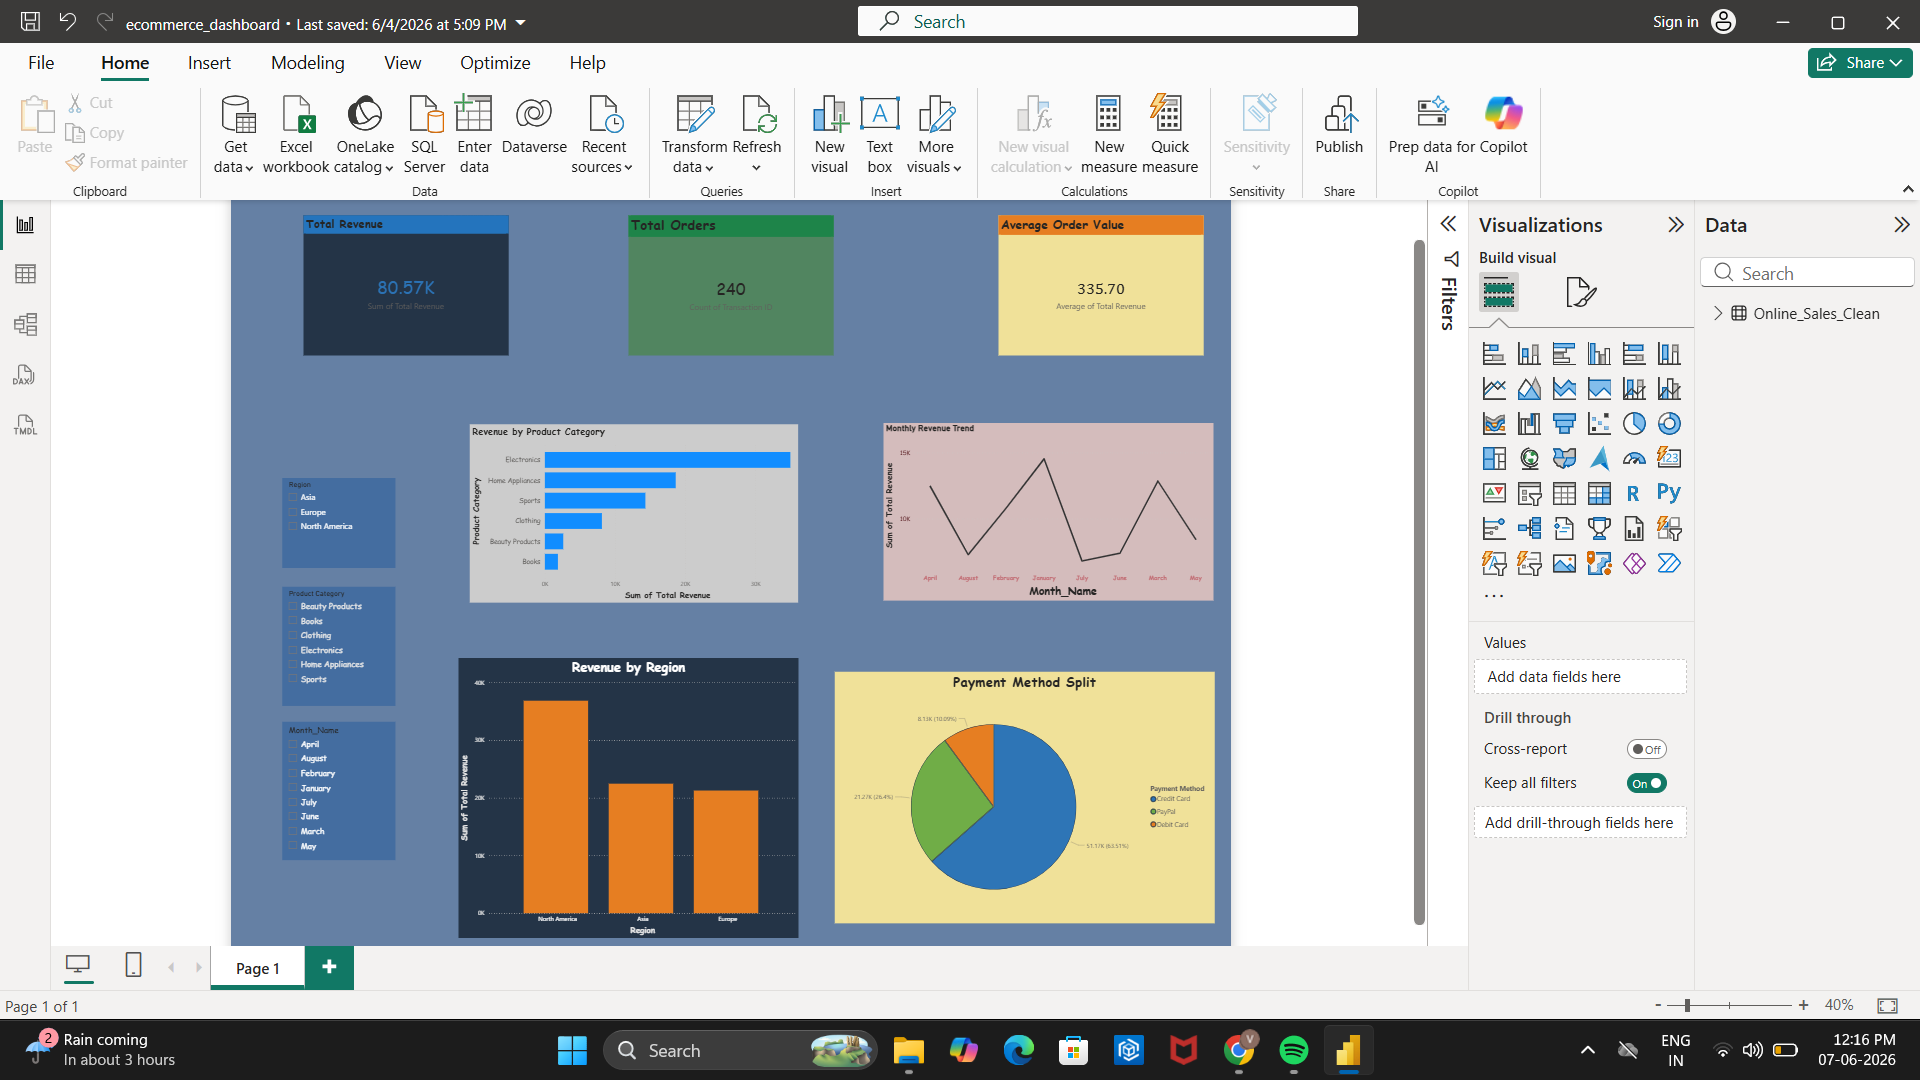

What the dashboard file says about the page in this screenshot:
{"tool":"powerbi","page":{"name":"Page 1","canvas":[2000,1600],"ordinal":0},"visuals":[{"type":"card","title":"Total Revenue","fields":{"Values":["Sum(Online_Sales_Clean.Total Revenue)"]},"box":[145,95,410,280],"z":0},{"type":"card","title":"Total Orders","fields":{"Values":["CountNonNull(Online_Sales_Clean.Transaction ID)"]},"box":[795,95,410,280],"z":1000},{"type":"card","title":"Average Order Value","fields":{"Values":["Avg(Online_Sales_Clean.Total Revenue)"]},"box":[1535,95,410,280],"z":2000},{"type":"clusteredBarChart","title":"Revenue by Product Category","fields":{"Category":["Online_Sales_Clean.Product Category"],"Y":["Sum(Online_Sales_Clean.Total Revenue)"]},"box":[478.3,511.7,656.7,356.7],"z":3000},{"type":"lineChart","title":"Monthly Revenue Trend","fields":{"Category":["Online_Sales_Clean.Month_Name"],"Y":["Sum(Online_Sales_Clean.Total Revenue)"]},"box":[1305,510,660,355],"z":4000},{"type":"clusteredColumnChart","title":"Revenue by Region","fields":{"Category":["Online_Sales_Clean.Region"],"Y":["Sum(Online_Sales_Clean.Total Revenue)"]},"box":[455,980,680,560],"z":5000},{"type":"pieChart","title":"Payment Method Split","fields":{"Category":["Online_Sales_Clean.Payment Method"],"Y":["Sum(Online_Sales_Clean.Total Revenue)"]},"box":[1206.7,1006.7,760,503.3],"z":6000},{"type":"slicer","fields":{"Values":["Online_Sales_Clean.Region"]},"box":[101.7,620,226.7,180],"z":7000},{"type":"slicer","fields":{"Values":["Online_Sales_Clean.Product Category"]},"box":[101.7,838.3,226.7,238.3],"z":8000},{"type":"slicer","fields":{"Values":["Online_Sales_Clean.Month_Name"]},"box":[101.7,1108.3,226.7,276.7],"z":9000}]}

Visuals, with their boxes on the page's 2000x1600 design canvas (x1, y1, x2, y2). These are canvas units, not pixel positions in the 1920x1080 screenshot, which may show the page scaled, cropped or inside an application window:
"Total Revenue" card: Rect(145, 95, 555, 375)
"Total Orders" card: Rect(795, 95, 1205, 375)
"Average Order Value" card: Rect(1535, 95, 1945, 375)
"Revenue by Product Category" clusteredBarChart: Rect(478, 512, 1135, 868)
"Monthly Revenue Trend" lineChart: Rect(1305, 510, 1965, 865)
"Revenue by Region" clusteredColumnChart: Rect(455, 980, 1135, 1540)
"Payment Method Split" pieChart: Rect(1207, 1007, 1967, 1510)
slicer - Online_Sales_Clean.Region: Rect(102, 620, 328, 800)
slicer - Online_Sales_Clean.Product Category: Rect(102, 838, 328, 1077)
slicer - Online_Sales_Clean.Month_Name: Rect(102, 1108, 328, 1385)
